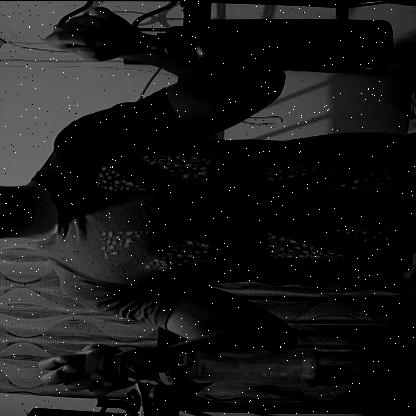Plastic Bottle: (75, 331, 331, 395)
